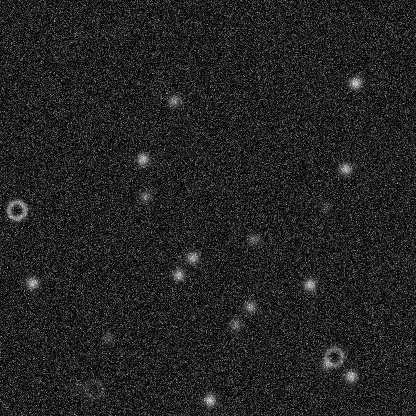Ring: (82, 377, 106, 401), (4, 197, 28, 221), (321, 344, 345, 368)
Spot: (99, 329, 115, 345), (24, 275, 40, 291), (227, 316, 243, 332), (184, 249, 200, 265), (166, 92, 182, 108), (170, 266, 186, 282), (70, 379, 86, 395), (347, 74, 363, 90), (337, 160, 353, 176), (245, 231, 261, 247), (201, 392, 217, 408), (134, 150, 150, 166), (317, 356, 333, 372), (186, 177, 202, 193), (342, 367, 358, 383), (301, 276, 317, 292), (317, 199, 333, 215), (137, 188, 153, 204), (242, 298, 258, 314)
